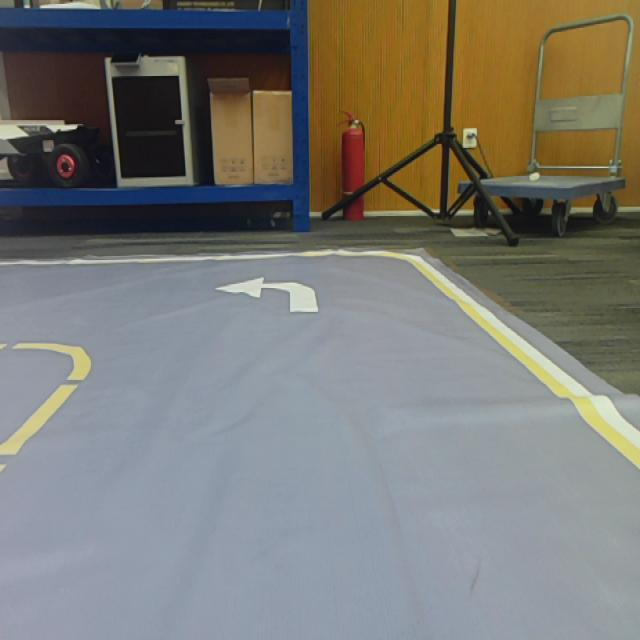left_lane: (0, 364, 92, 474)
right_lane: (408, 259, 640, 469)
